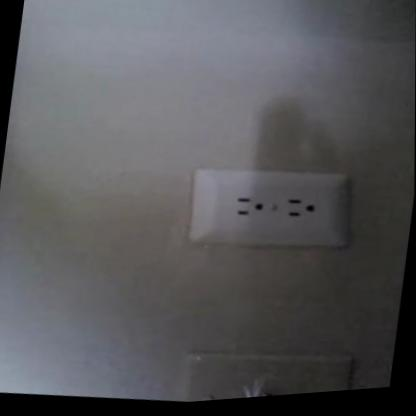OUTLET: (184, 154, 351, 259)
